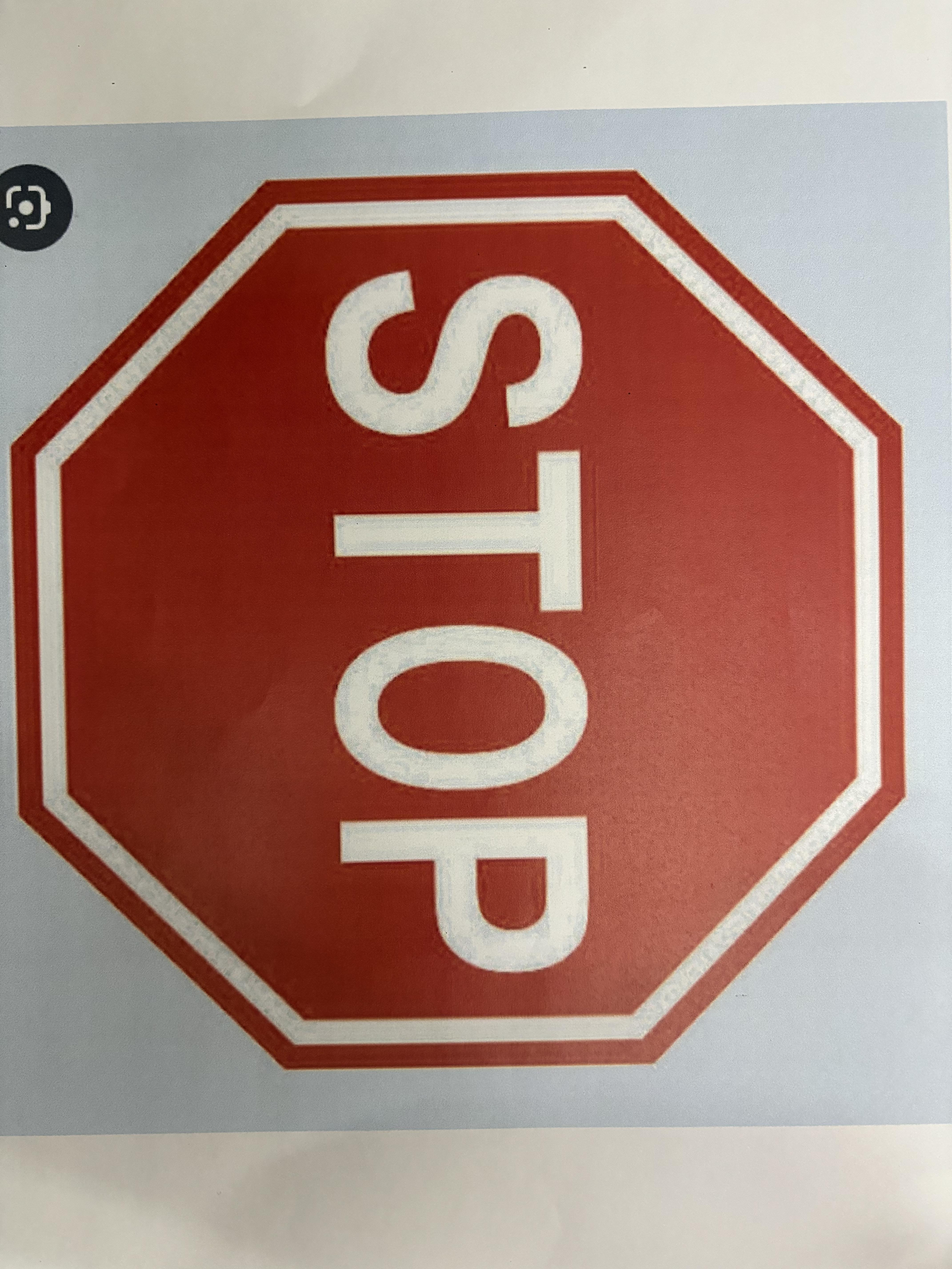Stop: (3, 163, 927, 1071)
